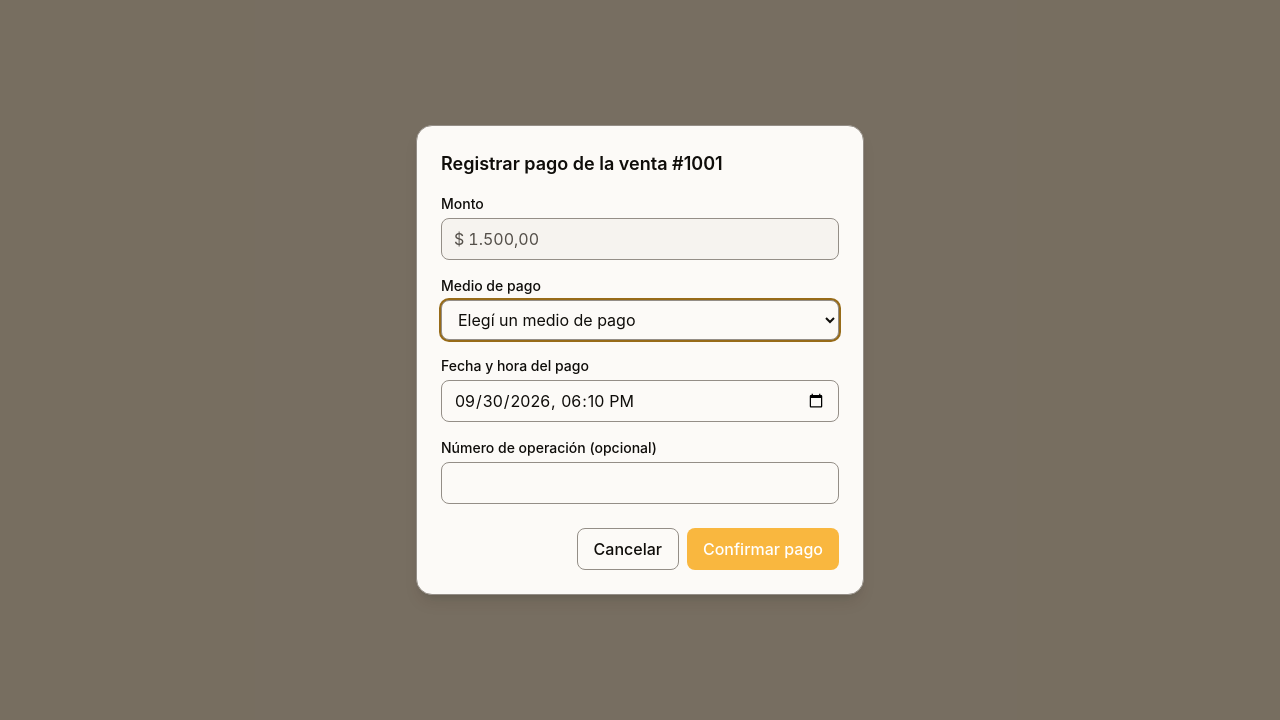
Scenario: ModalRegistrarPago - en línea › una fecha futura se rechaza sin escribir
This screenshot has width=1280, height=720.
Step 1. Select "Efectivo" in the dropdown labelled "Medio de pago" → (640, 320), box [441,300,839,340]
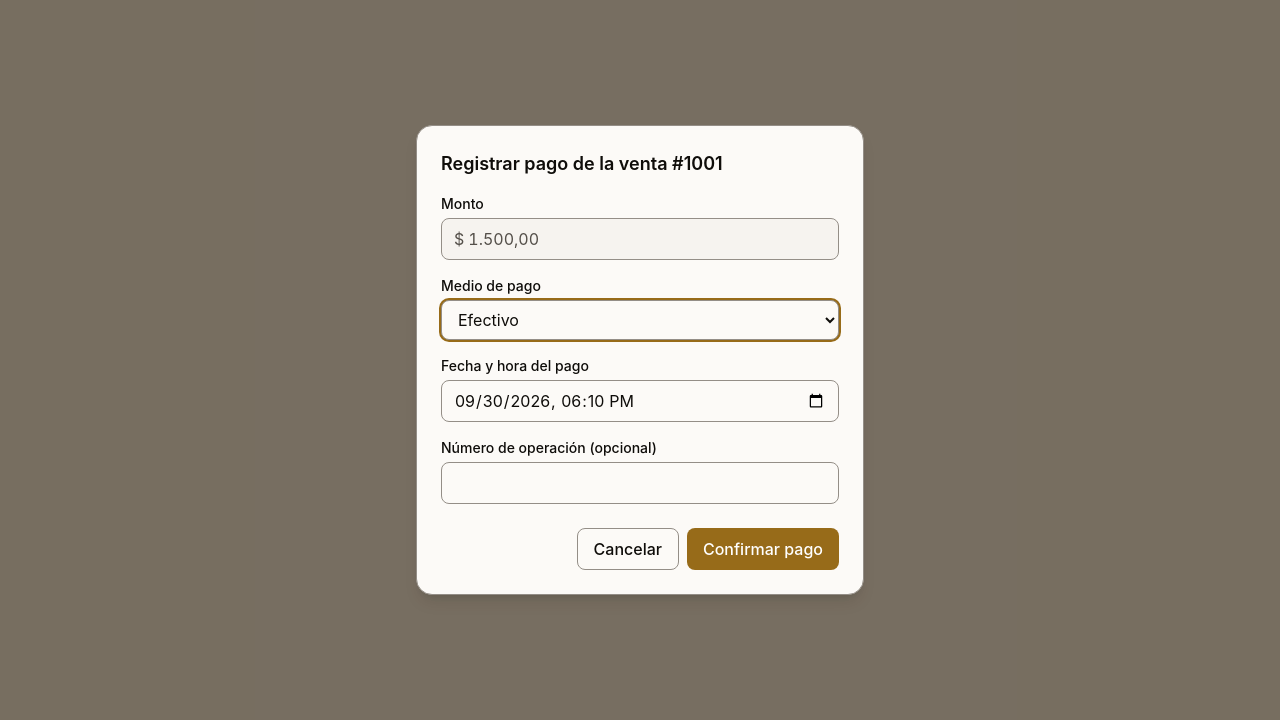
Step 2. Replace the text in the field labelled "Fecha y hora del pago" with "2099-01-01T10:00" → (640, 401), box [441,380,839,422]
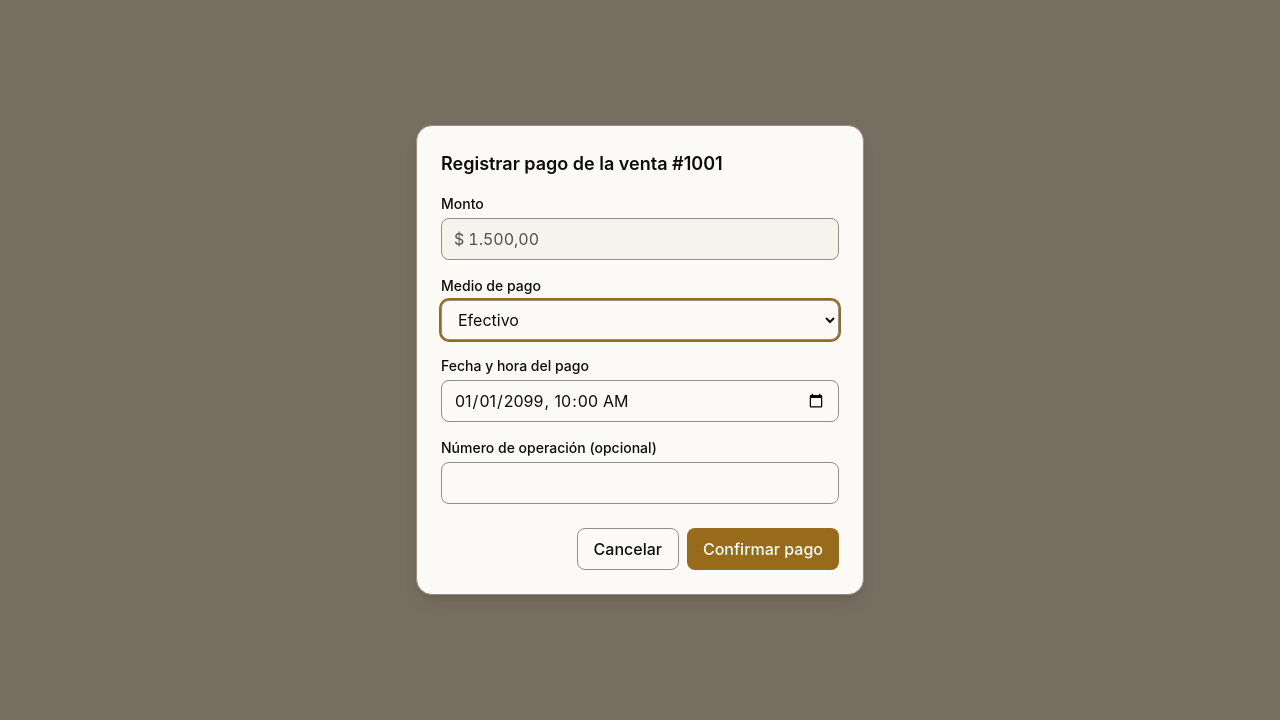
Step 3. Click the button "Confirmar pago" → click(763, 549), box [687,528,839,570]
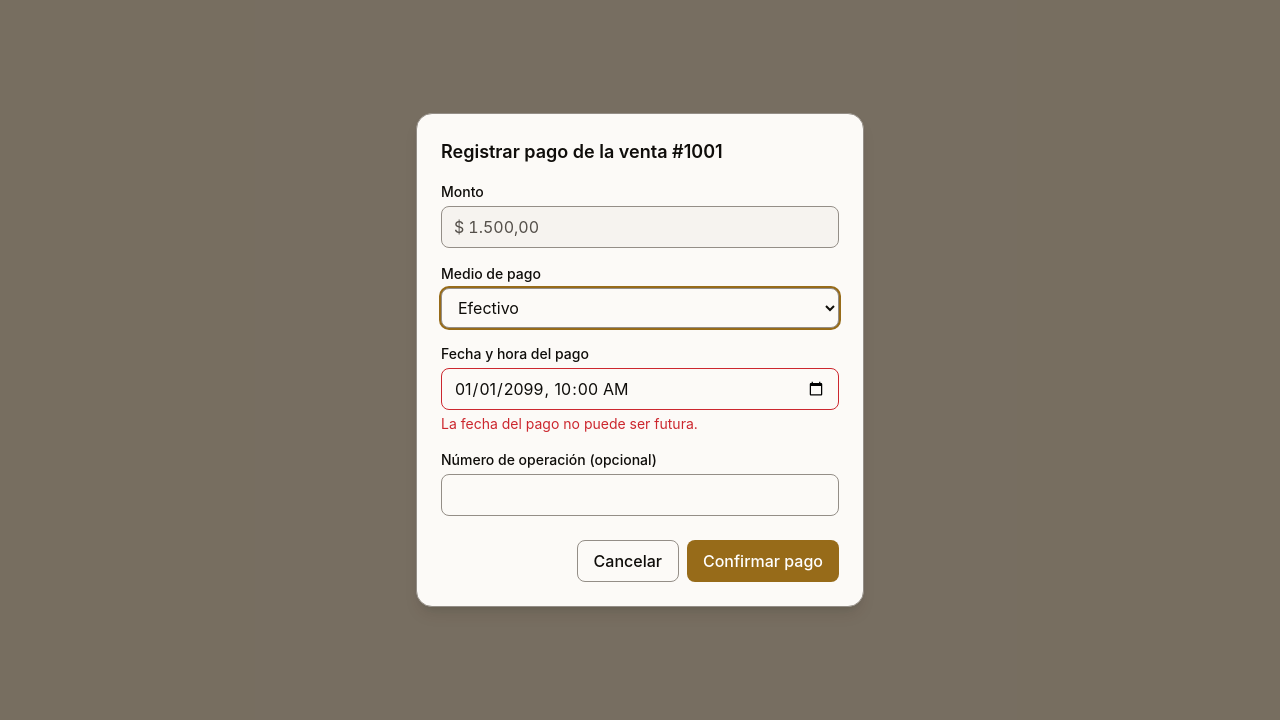
Expected: the text "La fecha del pago no puede ser futura." is shown, [441,415,698,432]
